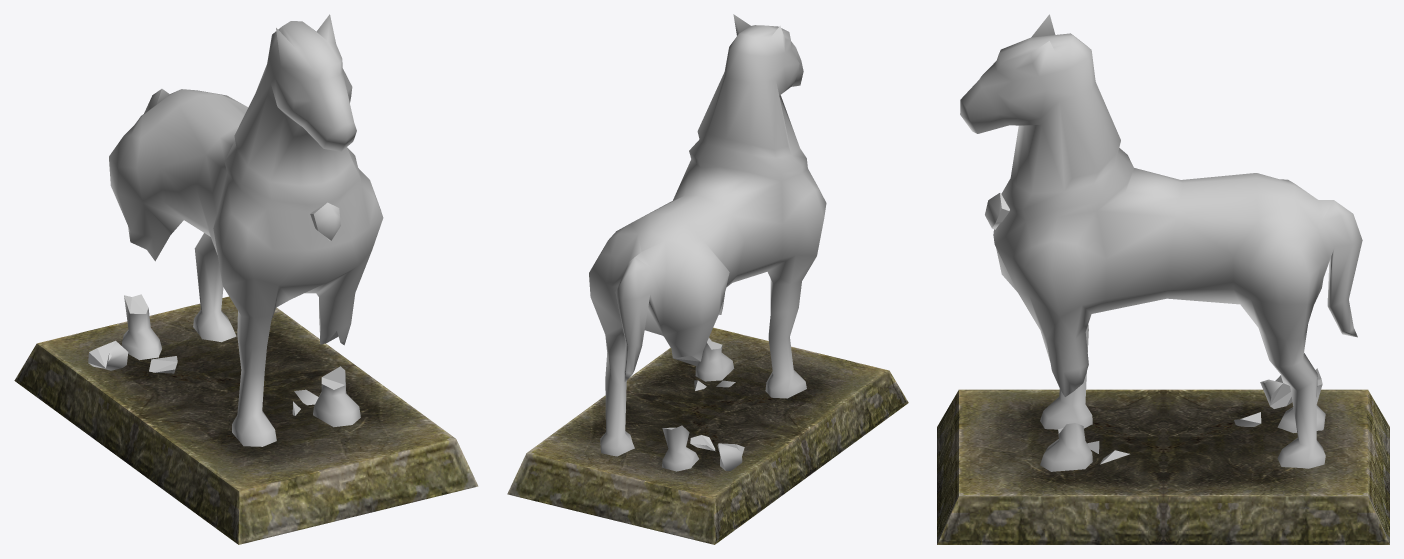
Rendered from shima_ly_62.FBX.
The picture shows the model from 3 angles, left to right: view 1: azimuth 30°, elevation 25°; view 2: azimuth 150°, elevation 25°; view 3: azimuth 270°, elevation 25°; orthographic projection. The views are drawn at different scales.
Visible parts, largest first — view 1: shima_ly_62_zhuti, shima_ly_62_dizuo; view 2: shima_ly_62_zhuti, shima_ly_62_dizuo; view 3: shima_ly_62_zhuti, shima_ly_62_dizuo.
Boxes of the visible parts, bbox=[...] form: shima_ly_62_zhuti: bbox=[88, 14, 383, 446]; shima_ly_62_dizuo: bbox=[14, 296, 478, 544]; shima_ly_62_zhuti: bbox=[589, 14, 826, 471]; shima_ly_62_dizuo: bbox=[507, 327, 908, 544]; shima_ly_62_zhuti: bbox=[960, 14, 1362, 471]; shima_ly_62_dizuo: bbox=[937, 389, 1389, 544].
Size of what is drawn, in the model's own units: 209 by 379 by 339.
